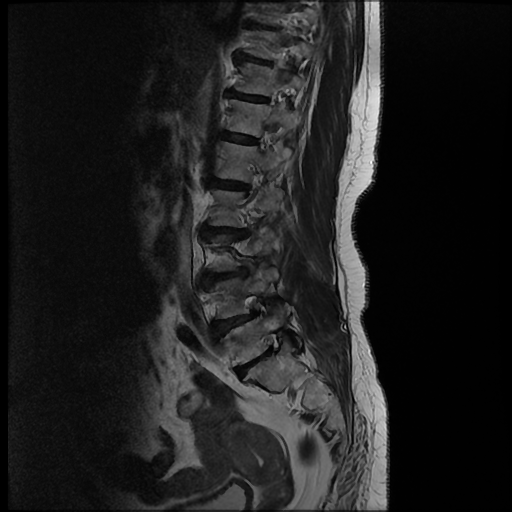RFS2: (238, 286, 276, 326)
